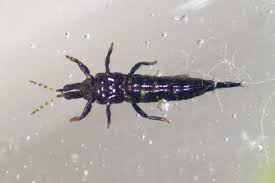Phlaeothripidae: (28, 41, 245, 130)
